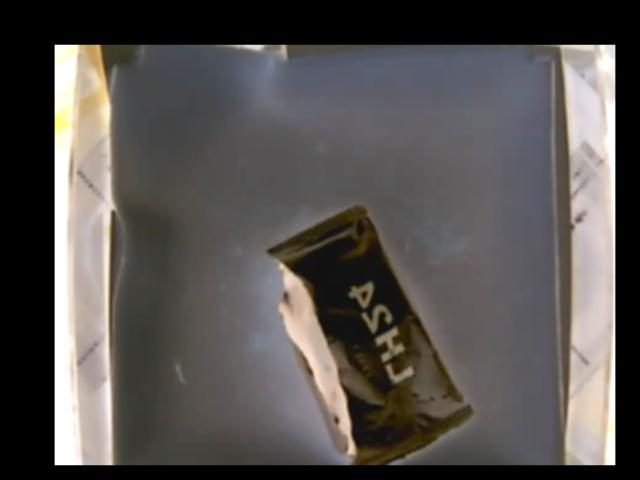Medicine: (266, 202, 473, 465)
